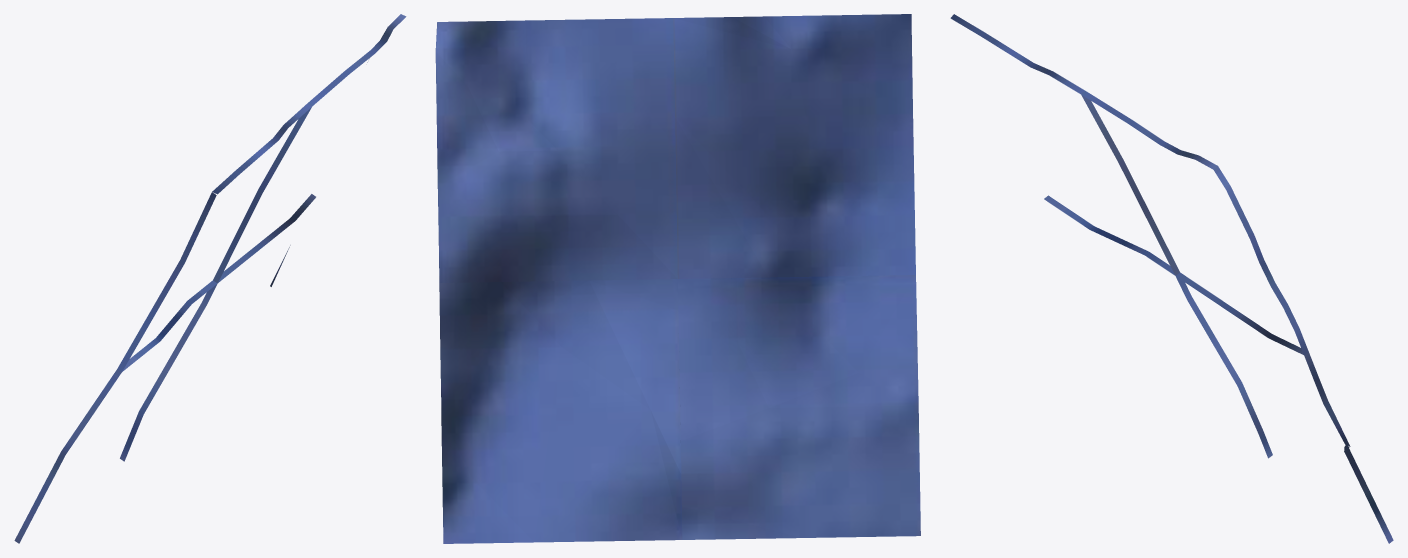
3 views of the same model, side by side, from view 1: azimuth 30°, elevation 25°; view 2: azimuth 150°, elevation 25°; view 3: azimuth 270°, elevation 25° (orthographic). The views are drawn at different scales.
Size of the model in its own units: 19648 by 18010 by 17166.
1 material, 1 textured.
